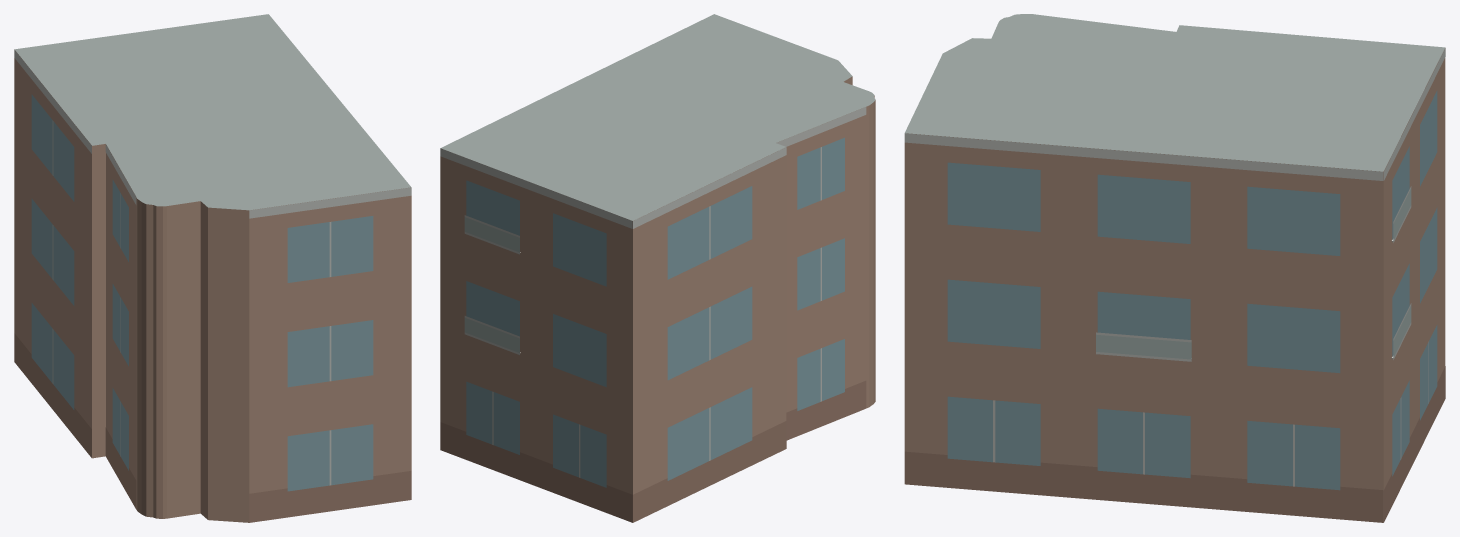
File: survey-upis-32614346.glb
3 renders of one model, left to right at view 1: azimuth 30°, elevation 25°; view 2: azimuth 150°, elevation 25°; view 3: azimuth 270°, elevation 25°, orthographic. The views are drawn at different scales.
Visible parts, largest first — view 1: survey-upis-32614346.tmp; view 2: survey-upis-32614346.tmp; view 3: survey-upis-32614346.tmp.
Boxes of the visible parts, box(x1,y1,x2,y2) form: survey-upis-32614346.tmp: box(14, 14, 411, 522); survey-upis-32614346.tmp: box(440, 14, 875, 522); survey-upis-32614346.tmp: box(904, 14, 1445, 522).
Bounding box in the file's own units: 8.75 × 9.08 × 12.69.
